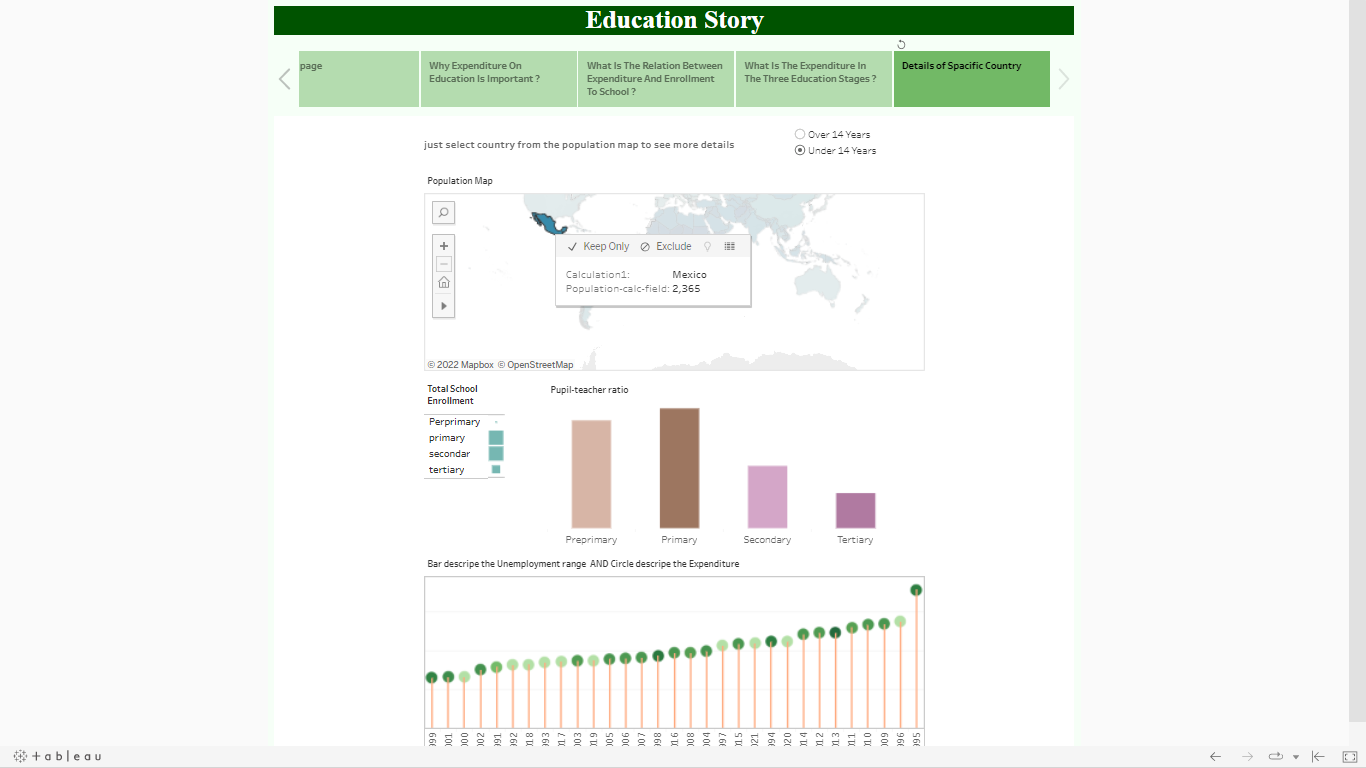

Layout of this report page (visuals, bound fields, positions):
{"tool":"tableau","page":{"name":"4","canvas":[650,860],"ordinal":3},"visuals":[{"type":"text","box":[8,9.3,459,60.6]},{"type":"parameter","param":"[Parameters].[Parameter 2]","box":[467,9.3,175,60.6]},{"type":"worksheet","title":"Population Map","mark":"Multipolygon","box":[8,69.9,634,273.3]},{"type":"worksheet","title":"Sheet 13","mark":"Automatic","box":[8,343.2,154,230.3]},{"type":"worksheet","title":"Pupil-teacher ratio","mark":"Automatic","cols":["Country Name"],"box":[162,343.2,448,230.3]},{"type":"worksheet","title":"Unemploy-Expen-ratio","mark":"Bar","rows":["Unemployment, total (% of total labor force) (modeled ILO es","Unemployment, total (% of total labor force) (modeled ILO es"],"cols":["Country Name","Year"],"box":[8,573.5,634,277.2]}]}

Visuals, with their boxes on the page's 650x860 design canvas (x1, y1, x2, y2). These are canvas units, not pixel positions in the 1366x768 screenshot, which may show the page scaled, cropped or inside an application window:
text: (left=8, top=9, right=467, bottom=70)
parameter: (left=467, top=9, right=642, bottom=70)
"Population Map" worksheet (Multipolygon marks): (left=8, top=70, right=642, bottom=343)
"Sheet 13" worksheet: (left=8, top=343, right=162, bottom=574)
"Pupil-teacher ratio" worksheet: (left=162, top=343, right=610, bottom=574)
"Unemploy-Expen-ratio" worksheet (Bar marks): (left=8, top=574, right=642, bottom=851)
